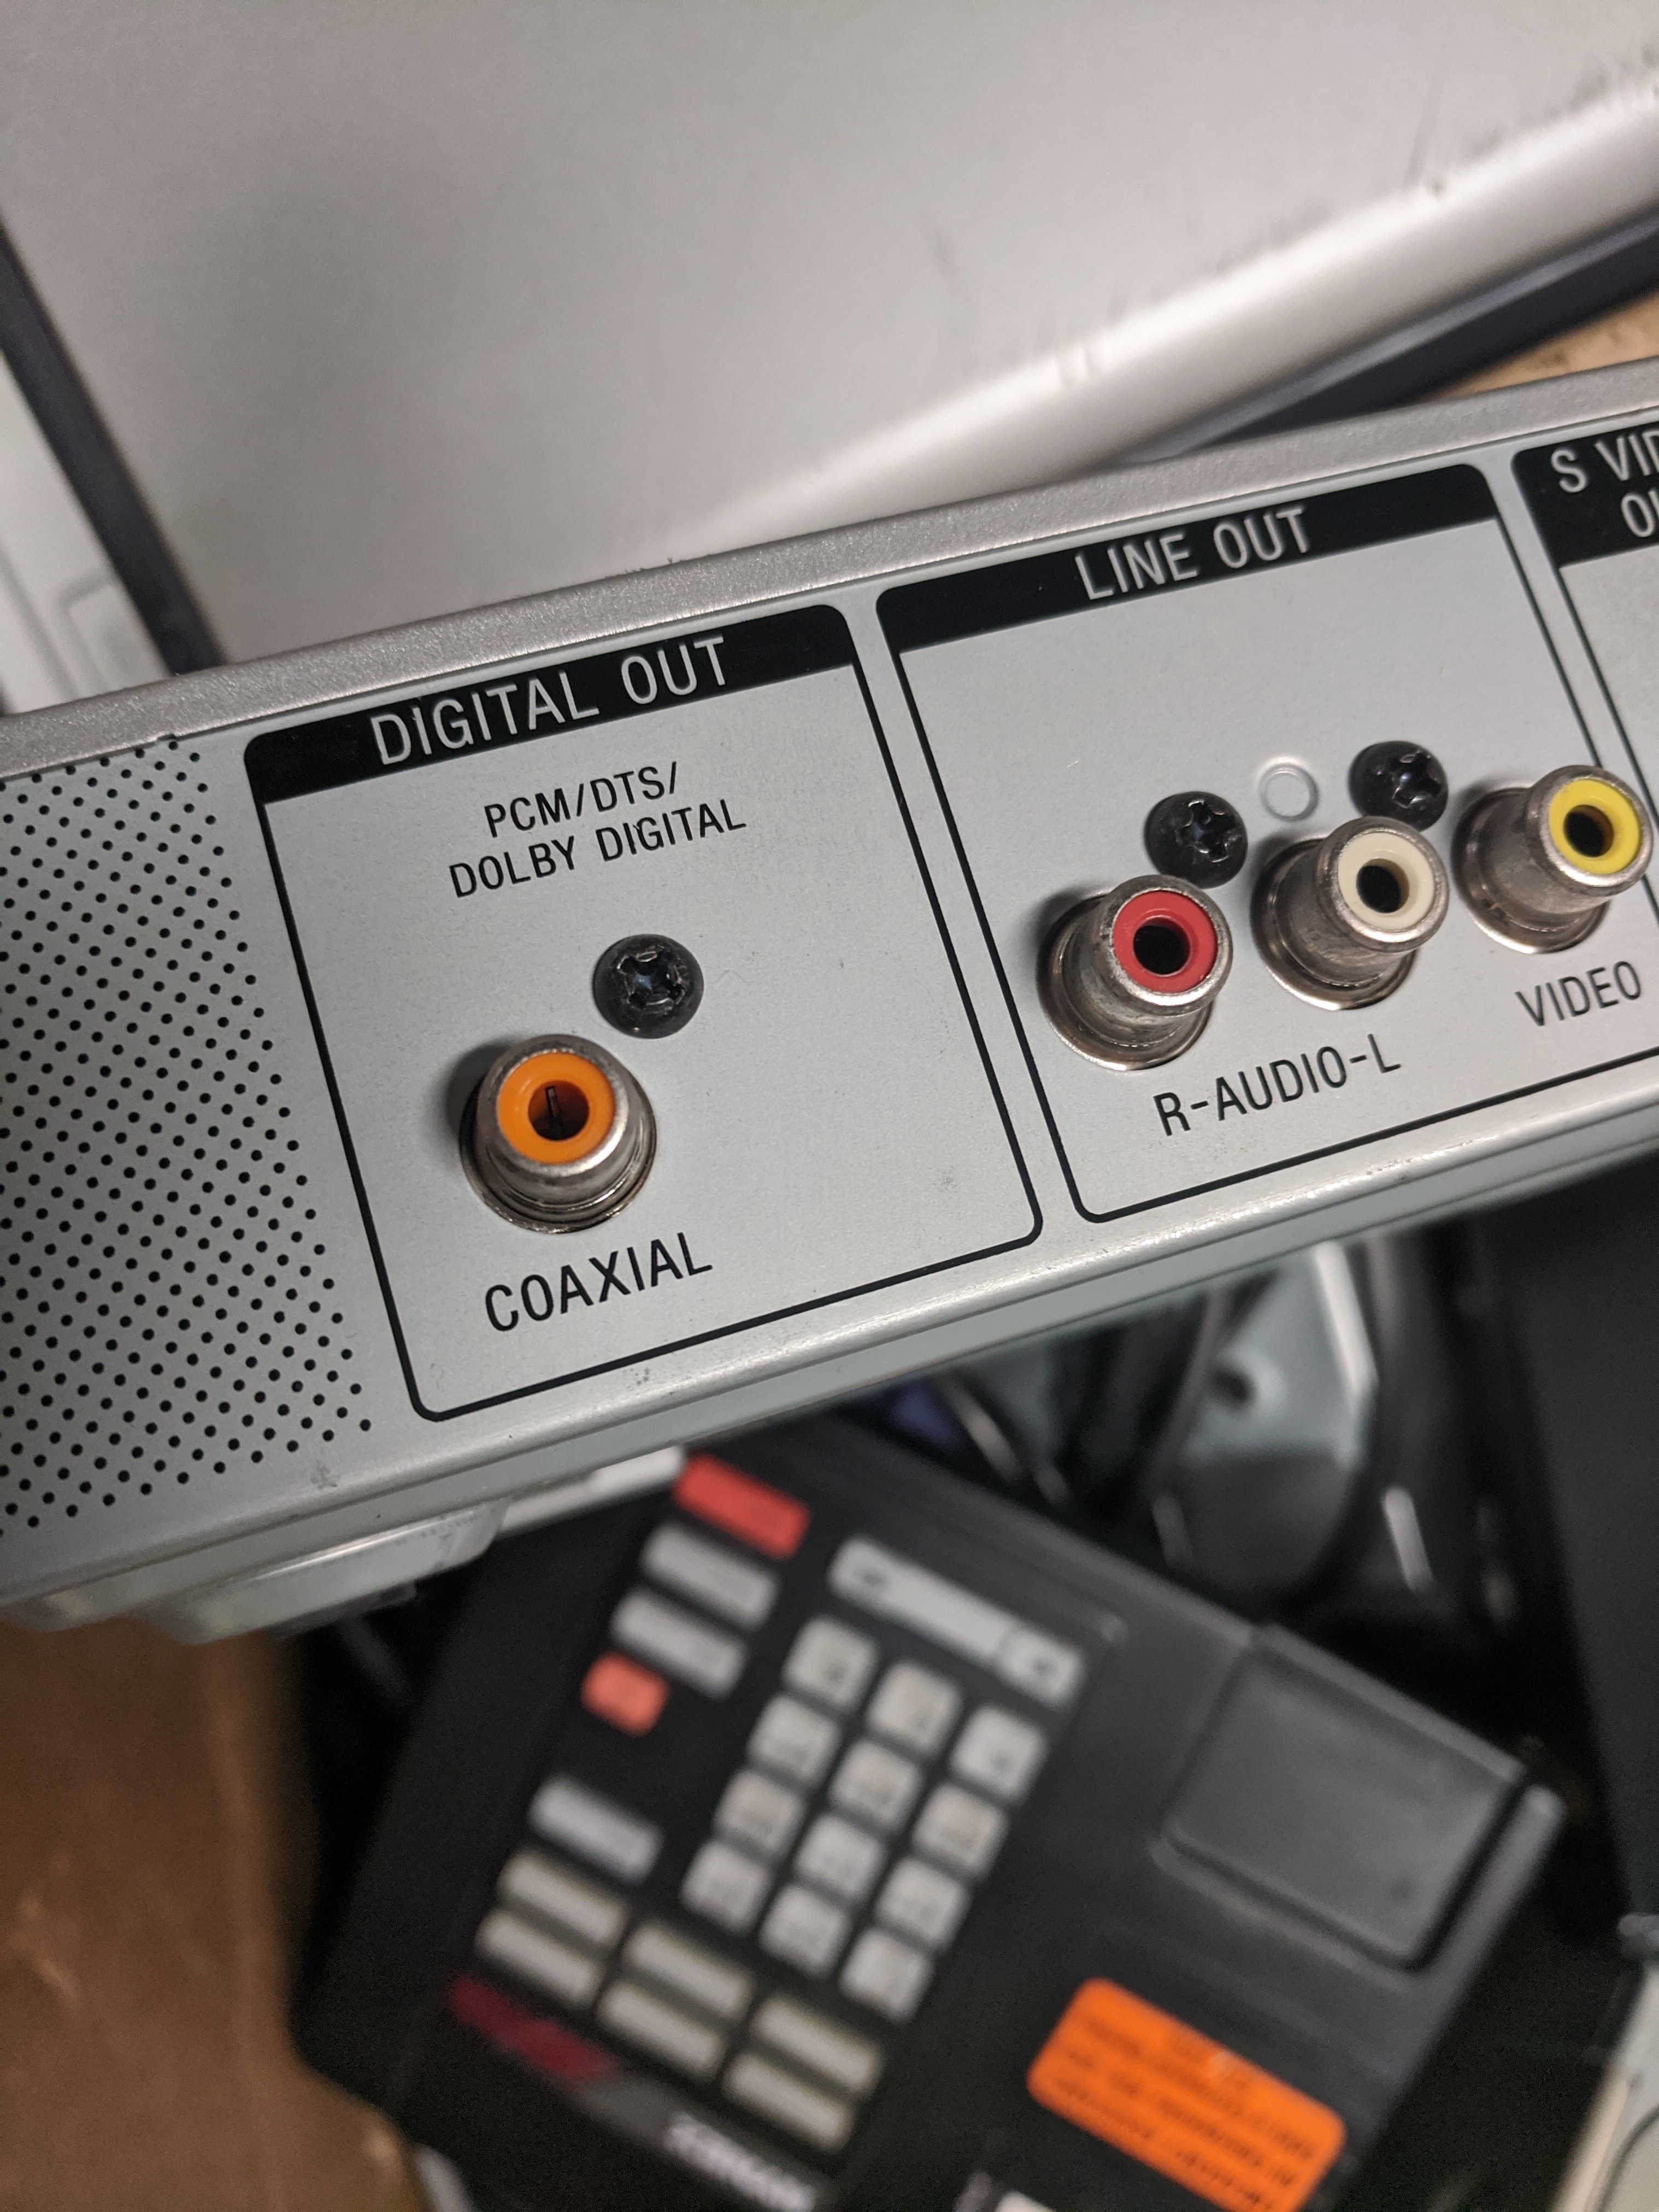cross_recessed_screw: (1127, 770, 1274, 890), (575, 918, 711, 1026), (1333, 725, 1469, 817)
